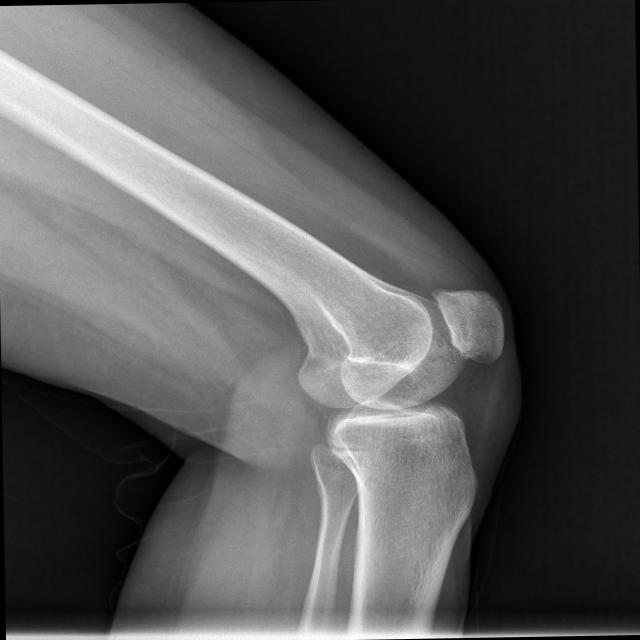Knee: (294, 283, 509, 492)
